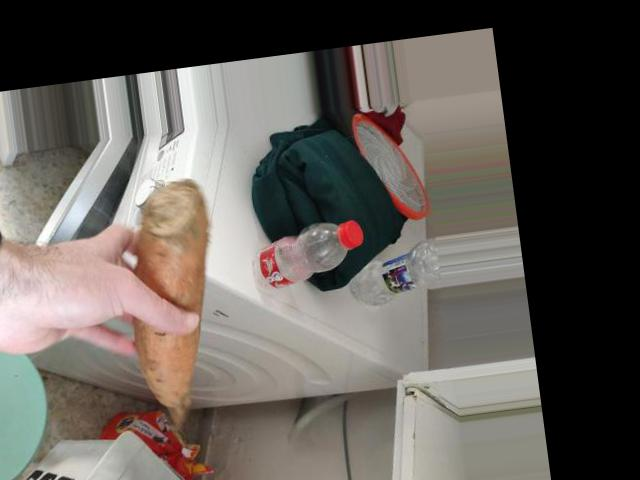sweet_potato: (124, 179, 215, 421)
